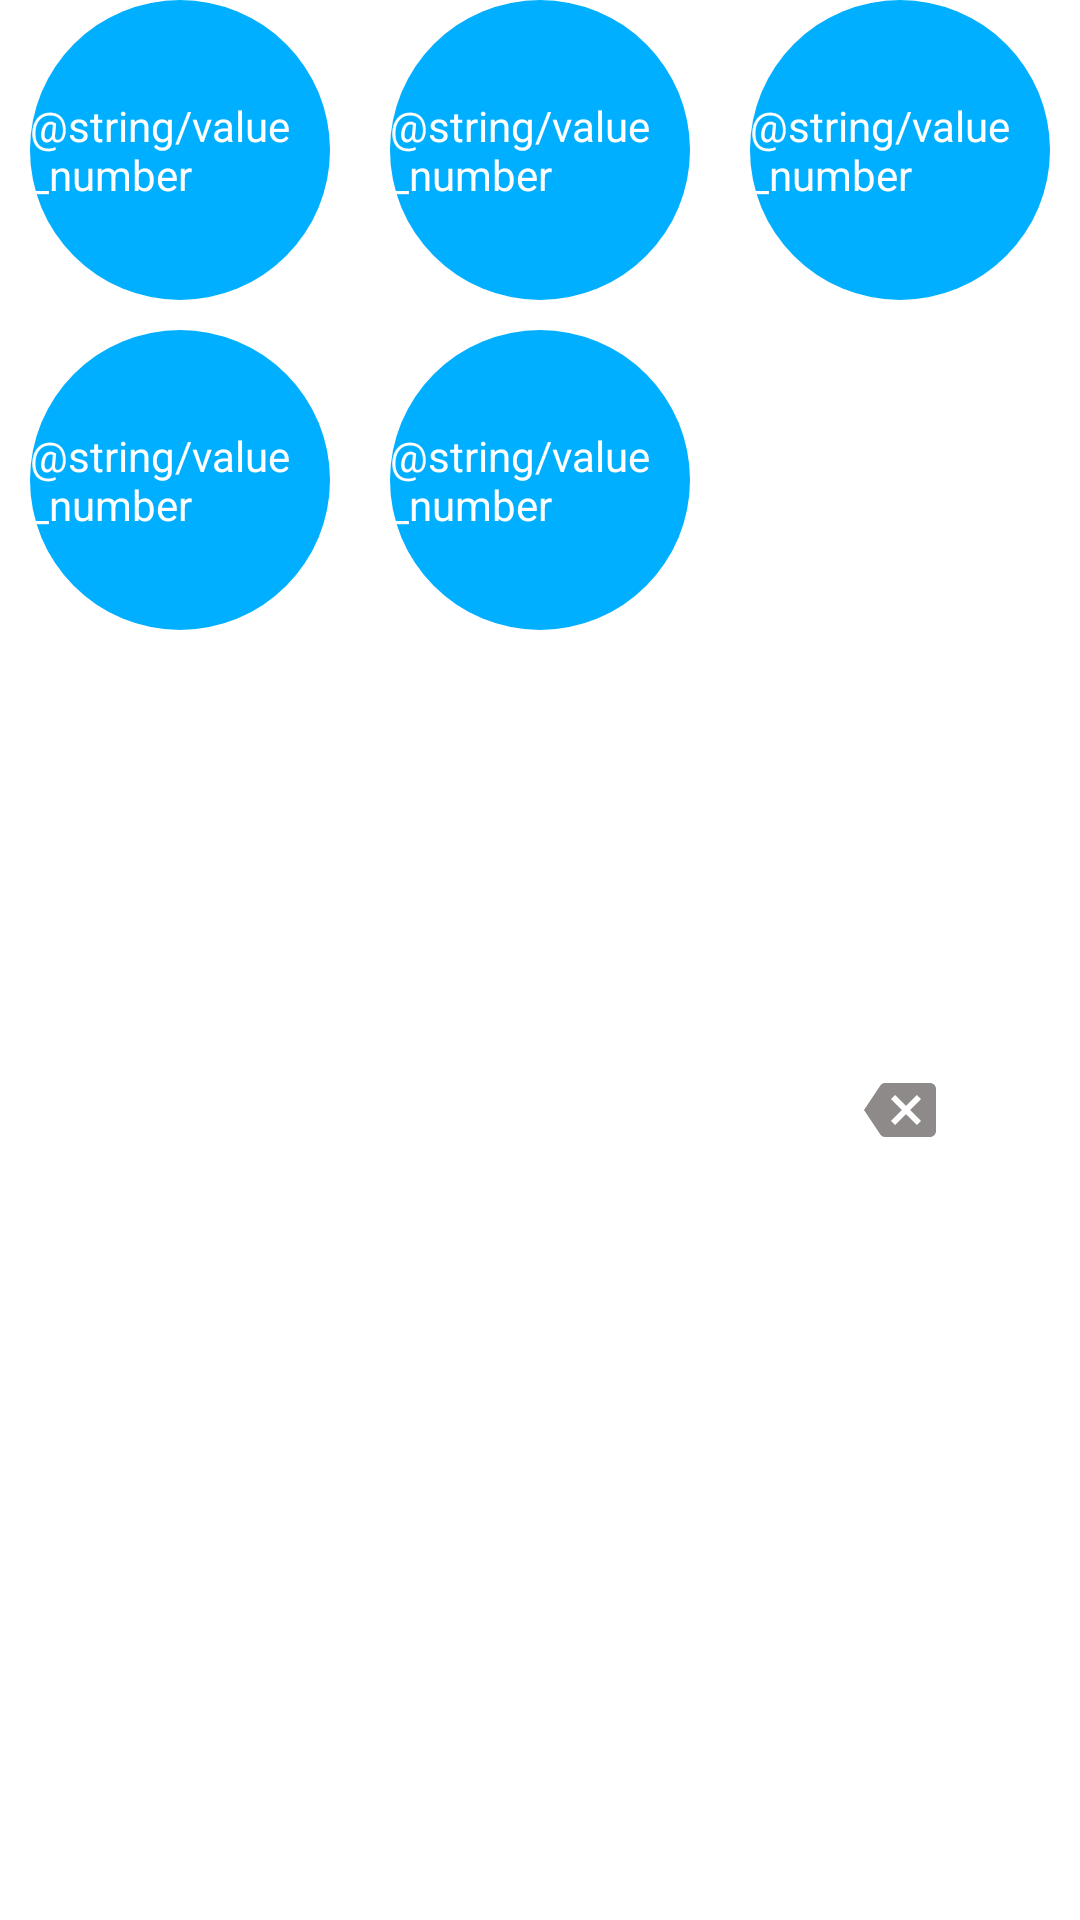

Icon bounding boxes for this 1080px x 1920px phone screenshot, format {"x1": x1, "y1": y1, "x2": x2, "y2": y2}:
backspace: {"x1": 864, "y1": 1083, "x2": 936, "y2": 1137}
